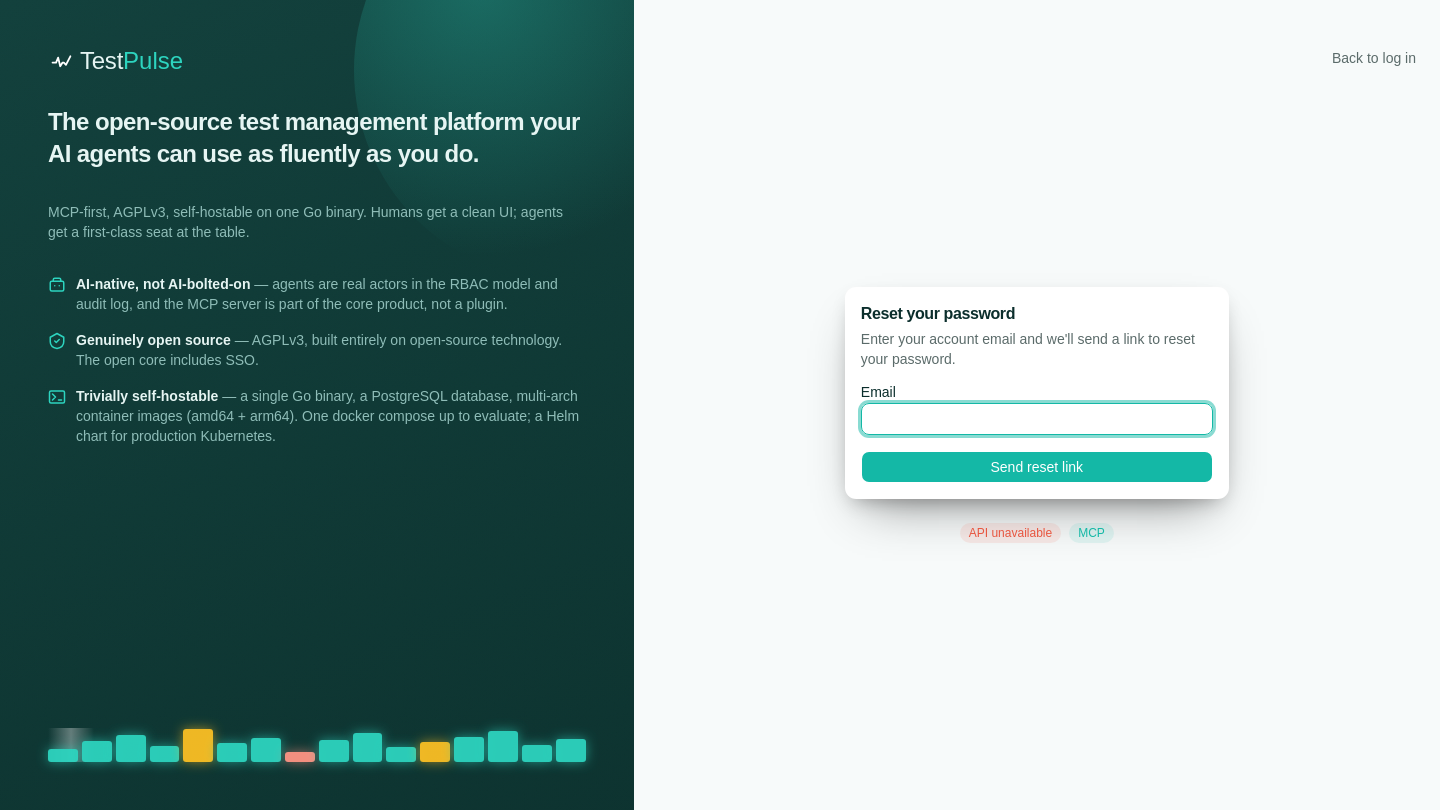
Test case: ForgotPasswordPage › shows a rate-limit message on 429 without a generic network error
The image size is (1440, 810).
In the field labelled "Email": (1037, 419) [861,403,1213,435], type "anyone@example.com"
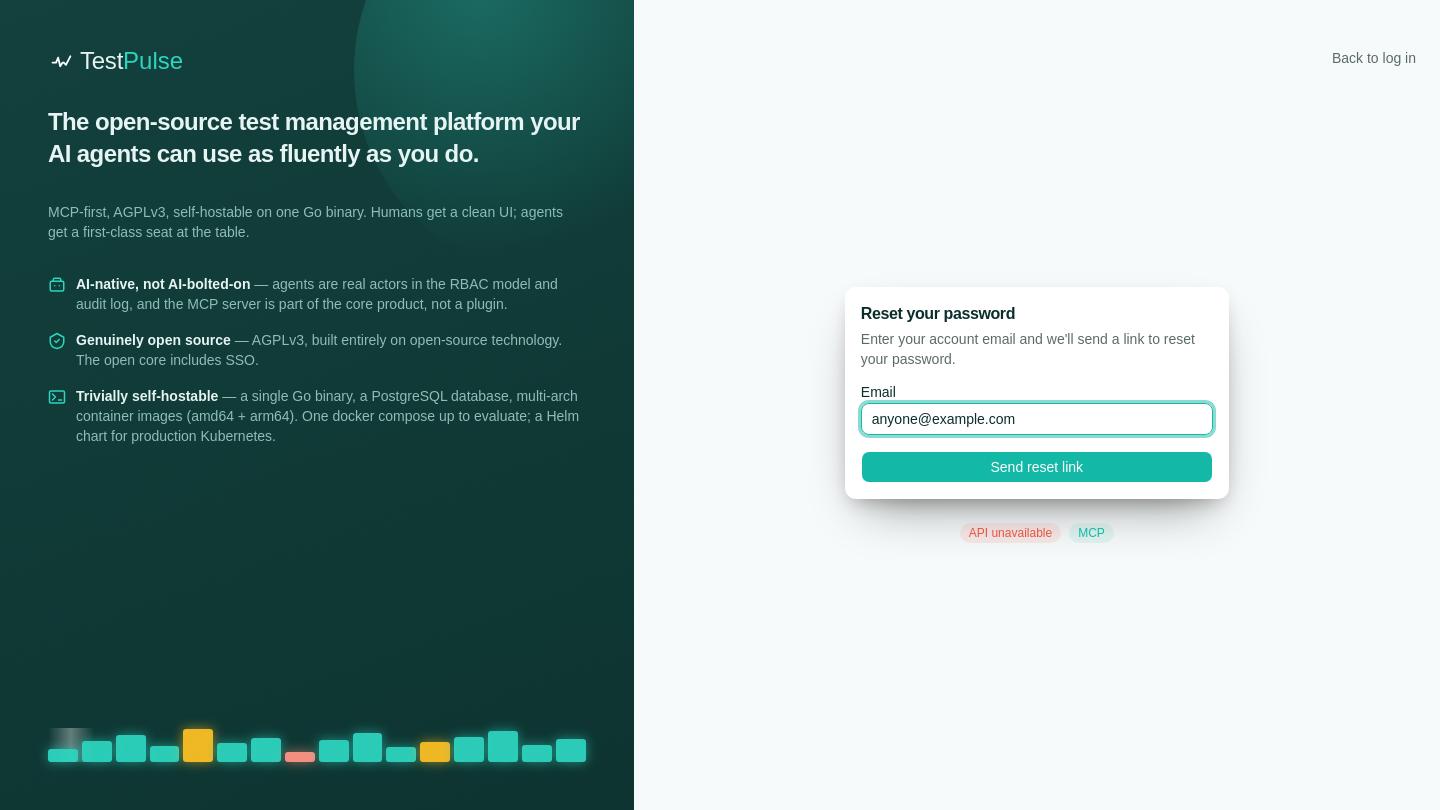
Click the button "Send reset link": (1037, 467) [861,451,1213,483]
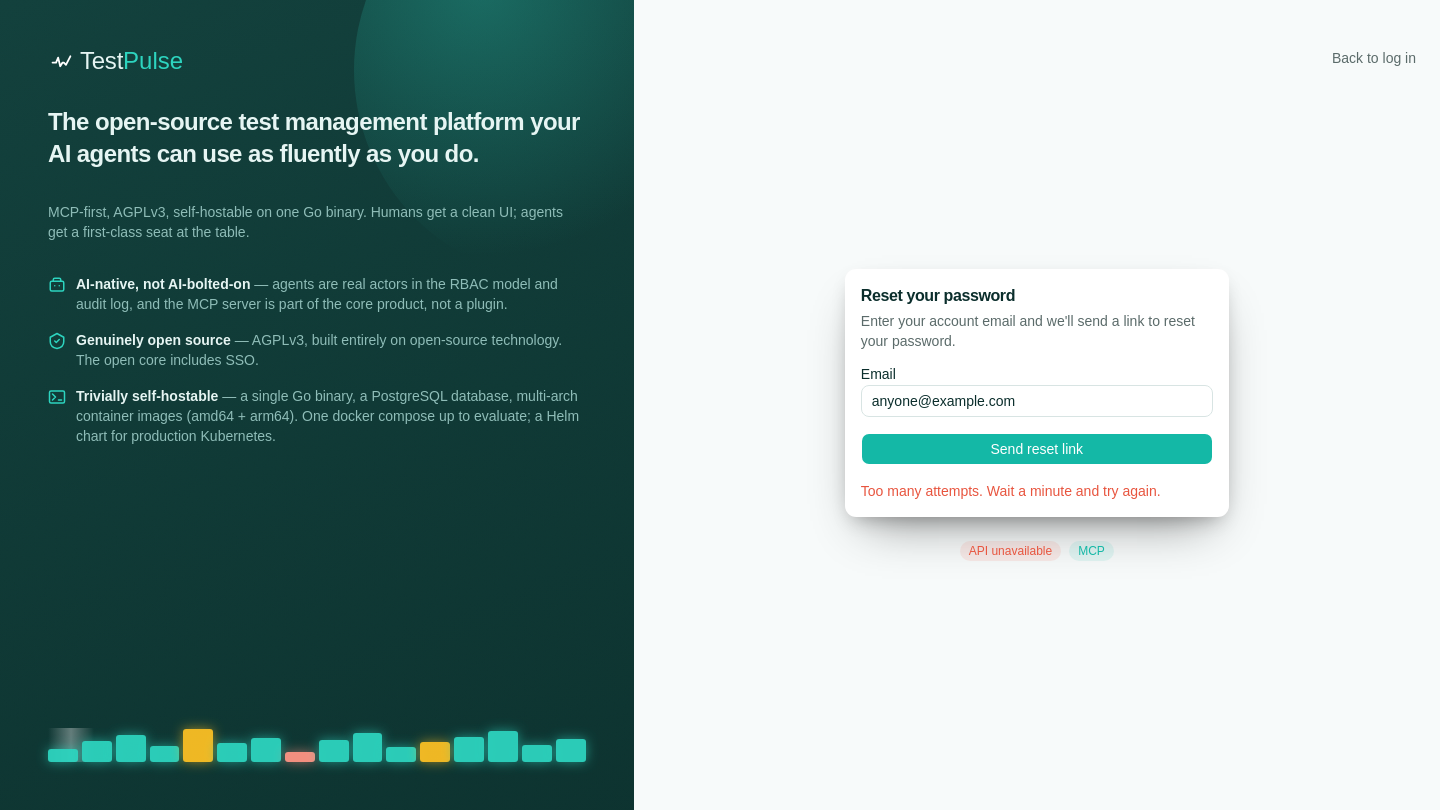
Expected: the text "Too many attempts. Wait a minute and try again." is shown, [861,481,1213,501]
